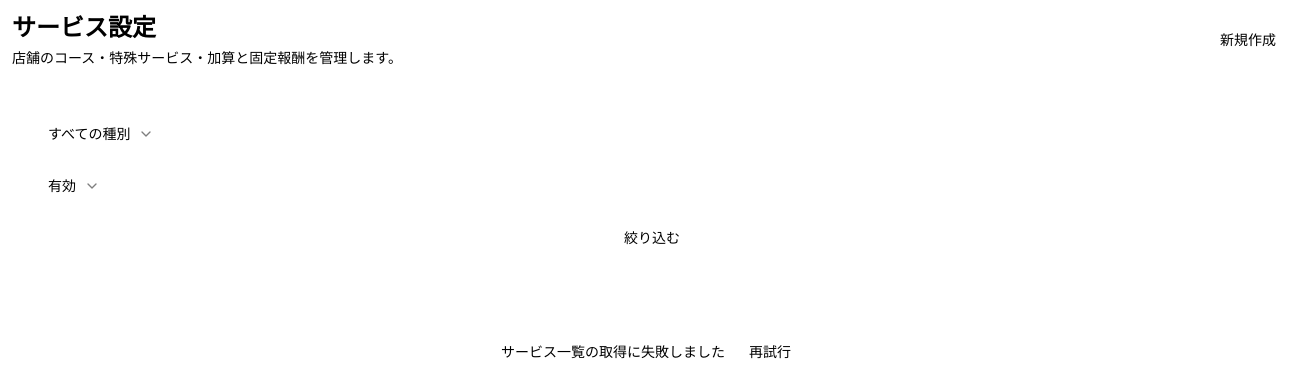
Scenario: 取得失敗を空一覧にせず再試行できる
The width and height of the screenshot is (1304, 385).
Expected: the message shows "サービス一覧の取得に失敗しました", [501,343,725,360]
Expected: the text "該当するサービスはありません" is not shown
Click the button "再試行": (770, 352) [737,336,803,368]
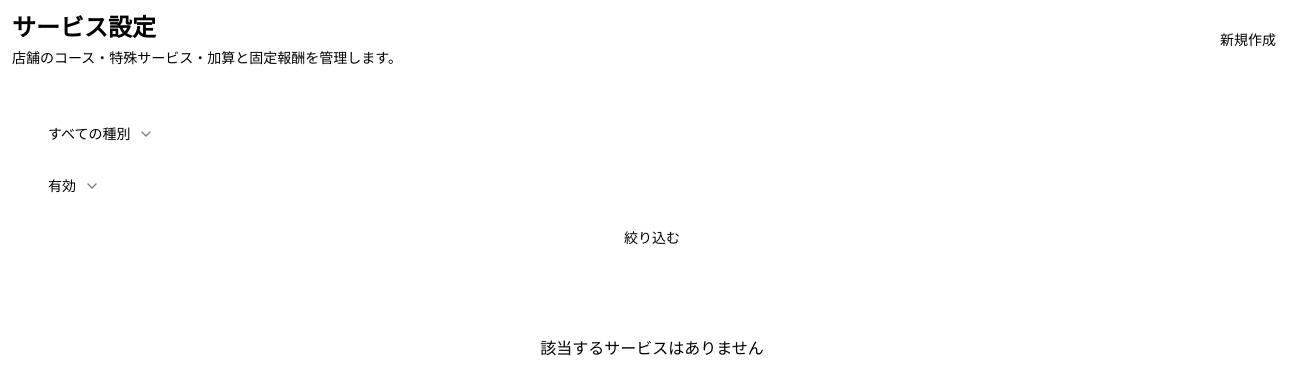
Expected: the text "該当するサービスはありません" is shown, [540,338,764,358]
